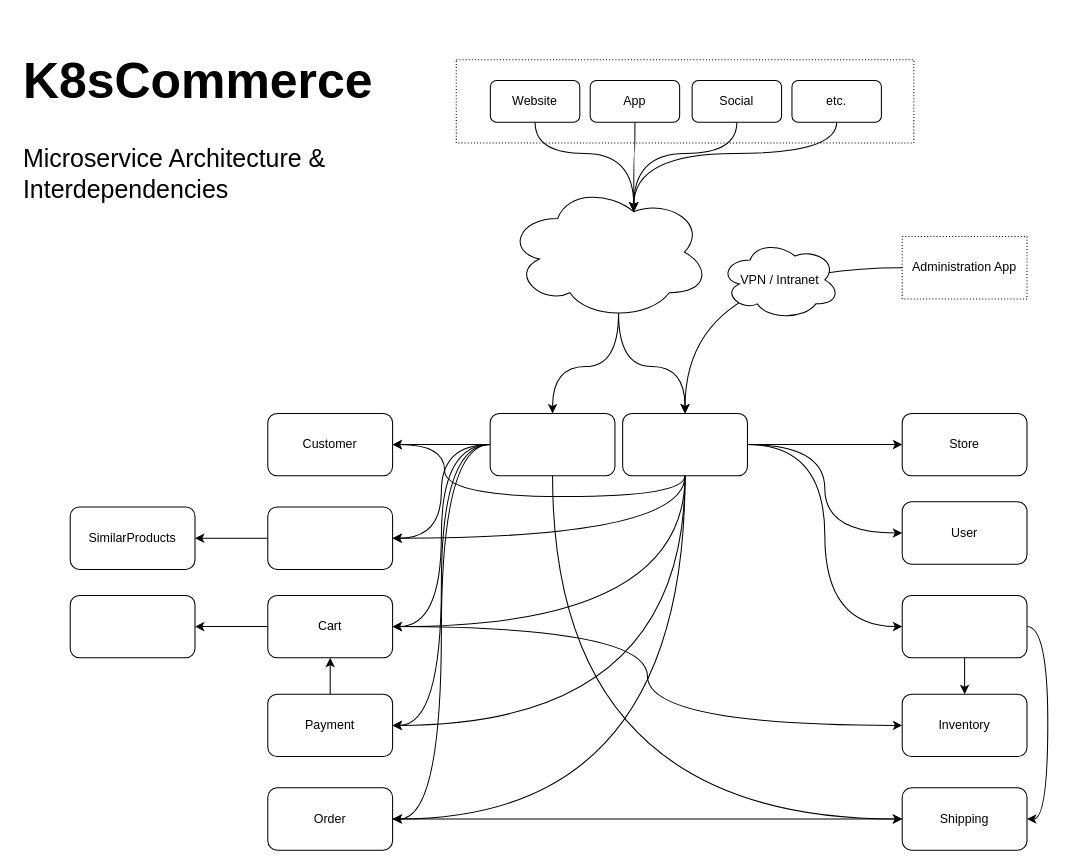
This 1066x868 diagram has some shape labels left out. The shapes that lost their labels are listed below. From the top down, each one's box as (x1, y1, x2, y2) in pixels, then its label:
(455, 59, 914, 143): Headless Shopping Experience
(506, 184, 710, 320): Internet
(489, 412, 615, 476): Client Gateway
(622, 412, 747, 476): Admin Gateway
(267, 506, 393, 569): Catalog
(69, 594, 195, 658): OthersBought
(901, 594, 1027, 658): Warehouse
